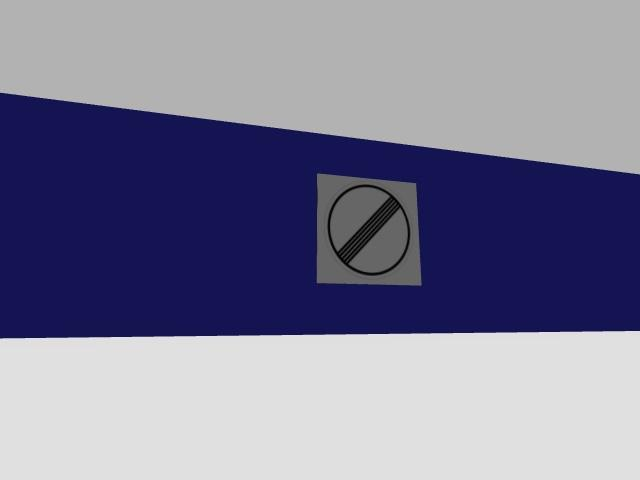fastsign: (316, 174, 421, 285)
